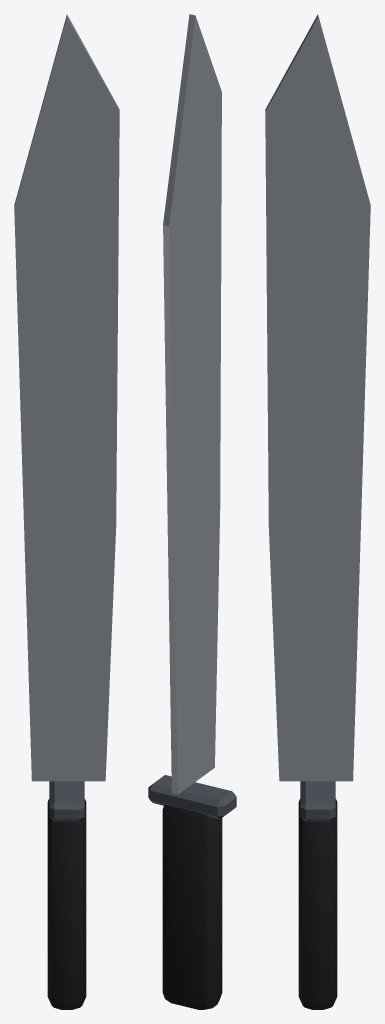
The model's file is SM_Machete.glb.
3 renders of one model, left to right at view 1: azimuth 90°, elevation 25°; view 2: azimuth 150°, elevation 25°; view 3: azimuth 270°, elevation 25°, orthographic.
Parts seen in each view (by area): view 1: SM_Machete; view 2: SM_Machete; view 3: SM_Machete.
Boxes of the visible parts, x1,y1,x2,y2 form: SM_Machete: (14, 14, 119, 1009); SM_Machete: (148, 14, 236, 1009); SM_Machete: (265, 14, 370, 1009).
Size of the model in its own units: 0.05 by 0.62 by 0.06.
1 material, 1 textured.
